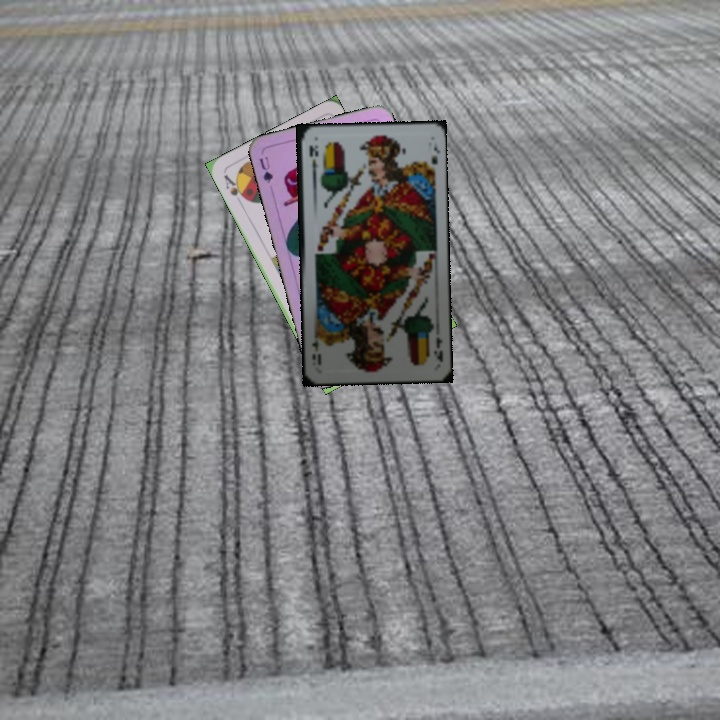EK: (306, 141, 320, 180), (429, 333, 445, 365)
GU: (255, 153, 276, 186)
SA: (220, 170, 250, 204)
